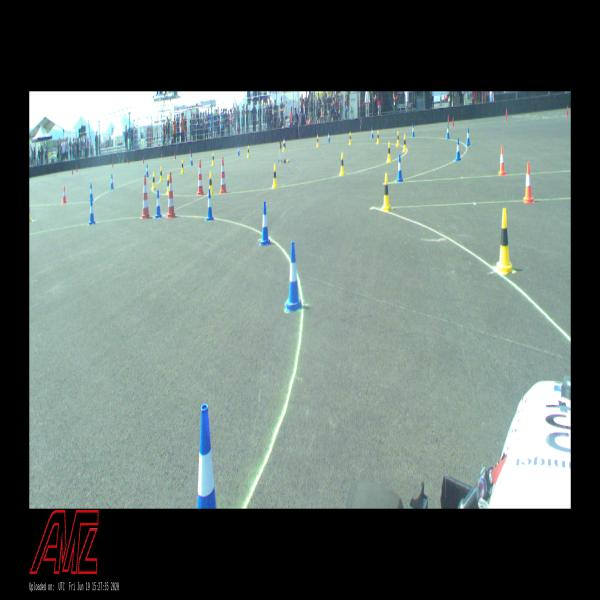blue_cone: (197, 404, 217, 508), (285, 242, 302, 312), (259, 202, 271, 245), (205, 189, 214, 221), (155, 190, 162, 218), (396, 154, 403, 181), (88, 198, 95, 224), (455, 138, 461, 161), (89, 183, 94, 202), (466, 128, 470, 145), (446, 124, 450, 139), (110, 174, 114, 189), (146, 164, 149, 177), (190, 154, 193, 166), (412, 124, 414, 137), (371, 127, 373, 138), (238, 145, 240, 156), (284, 137, 286, 148), (328, 132, 330, 142)
large_orange_cone: (140, 176, 152, 218), (166, 172, 176, 218), (218, 157, 228, 193), (196, 159, 204, 195)
orange_cone: (522, 162, 534, 203), (498, 146, 506, 176), (62, 186, 66, 203)
unknown_cone: (504, 109, 508, 122), (565, 106, 569, 117), (448, 114, 450, 124), (452, 117, 454, 126)
yellow_cone: (495, 208, 513, 275), (382, 172, 390, 211), (271, 164, 278, 188), (339, 152, 345, 175), (386, 142, 392, 162), (209, 173, 214, 194), (151, 172, 156, 190), (402, 134, 407, 152), (396, 131, 400, 147), (159, 166, 163, 182), (166, 174, 169, 194), (376, 130, 380, 144), (348, 131, 352, 145), (211, 152, 215, 165), (246, 145, 250, 158), (29, 206, 32, 222), (316, 134, 319, 148), (181, 160, 184, 173), (282, 140, 285, 151)
